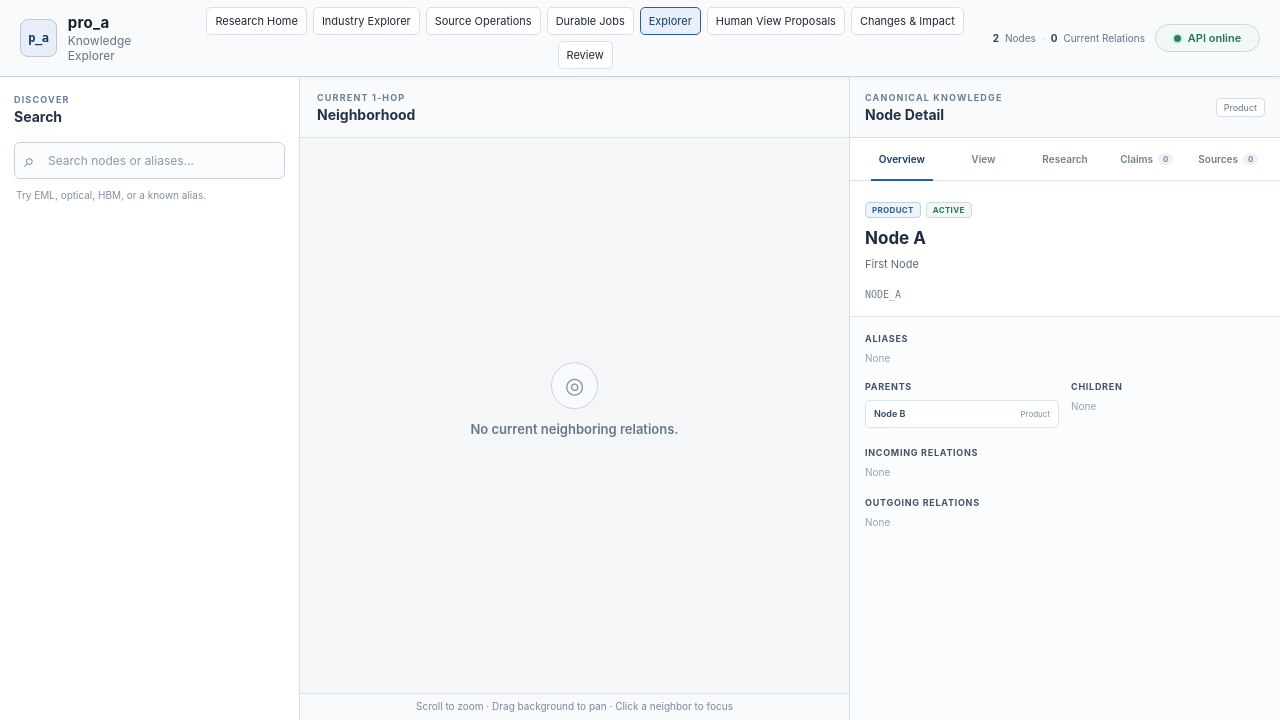
it: App error boundary › ignores a stale Current View history response after switching Nodes
The width and height of the screenshot is (1280, 720).
Expected: the heading "Node A" is shown, [865, 228, 926, 248]
Click the button "Node B Product" at [962, 414], box [865, 400, 1059, 428]
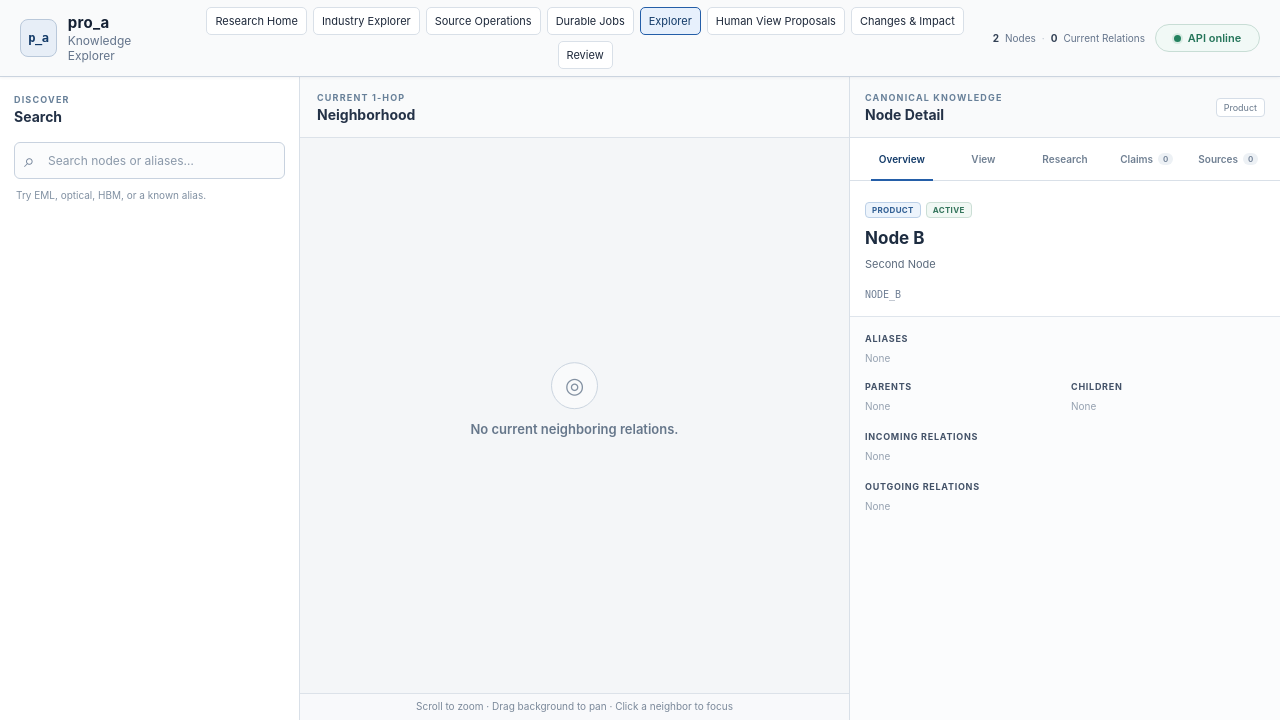
Expected: the heading "Node B" is shown, [865, 228, 924, 248]
Click the tab "View" at [983, 159], box [943, 138, 1024, 180]
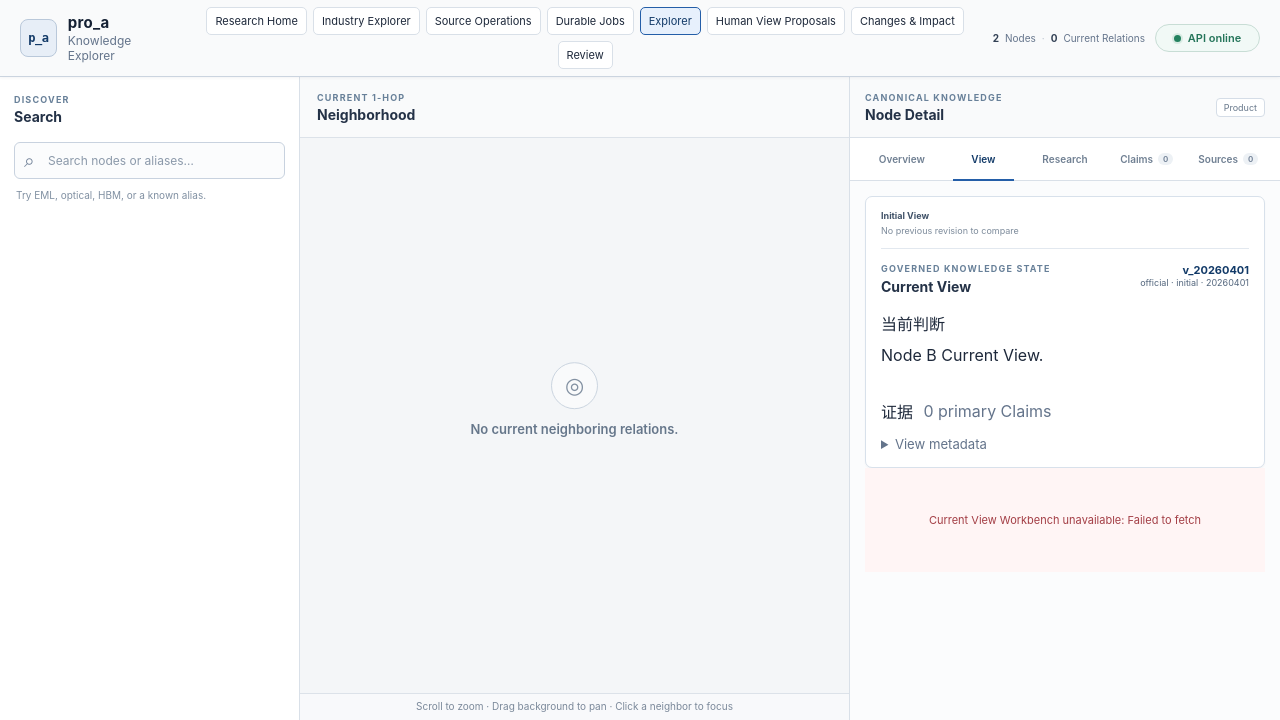
Expected: the text "Node B Current View." is shown, [881, 345, 1043, 365]
